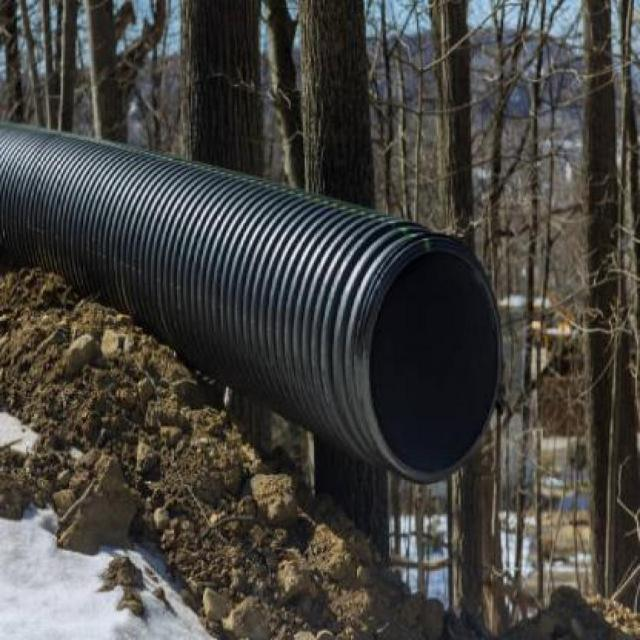pipe: (360, 235, 502, 484)
